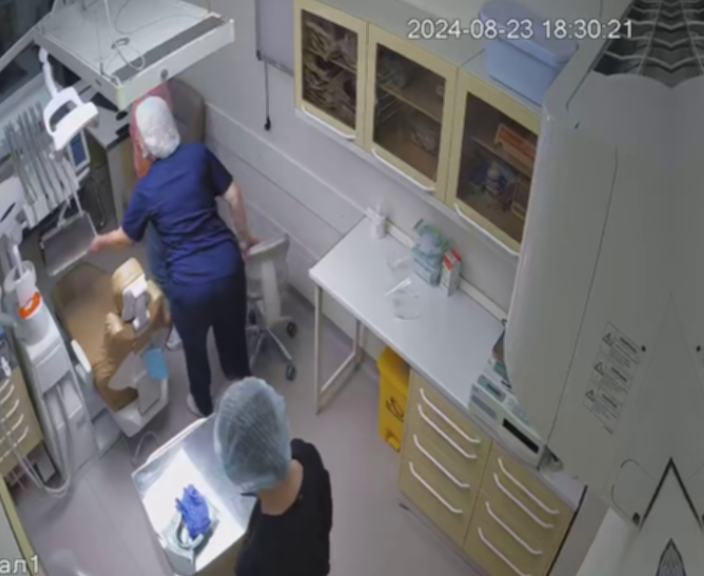Empty: (59, 257, 174, 433)
